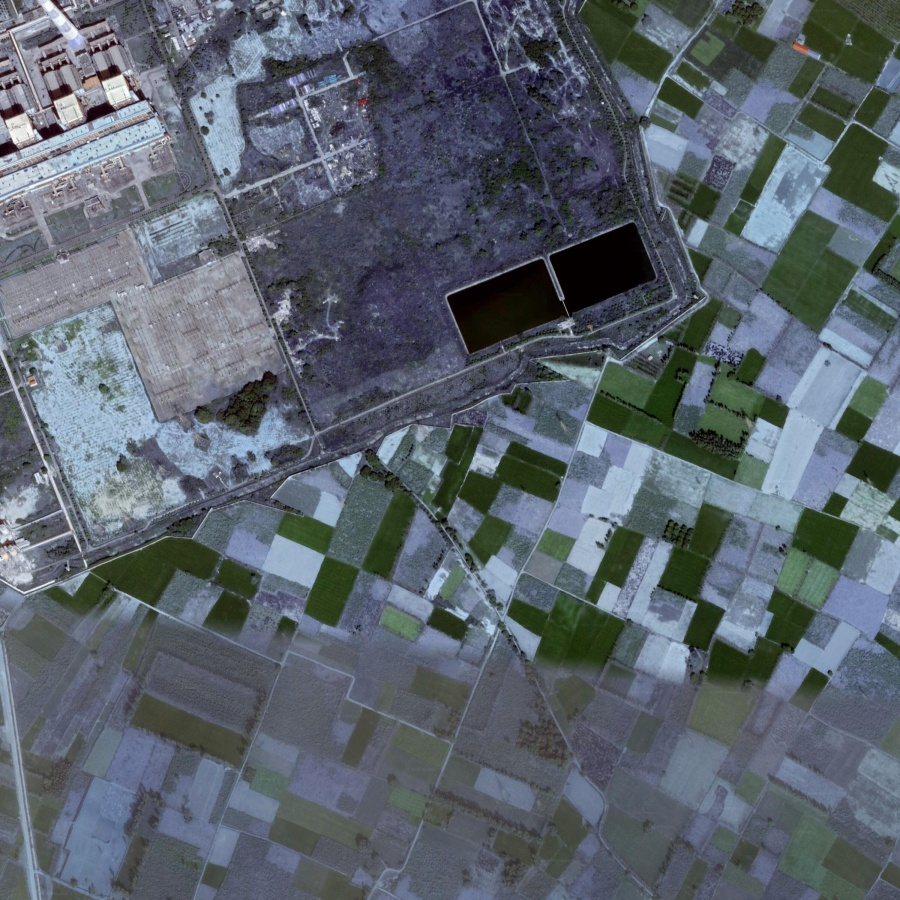PowerPlant: (426, 202, 667, 388)
